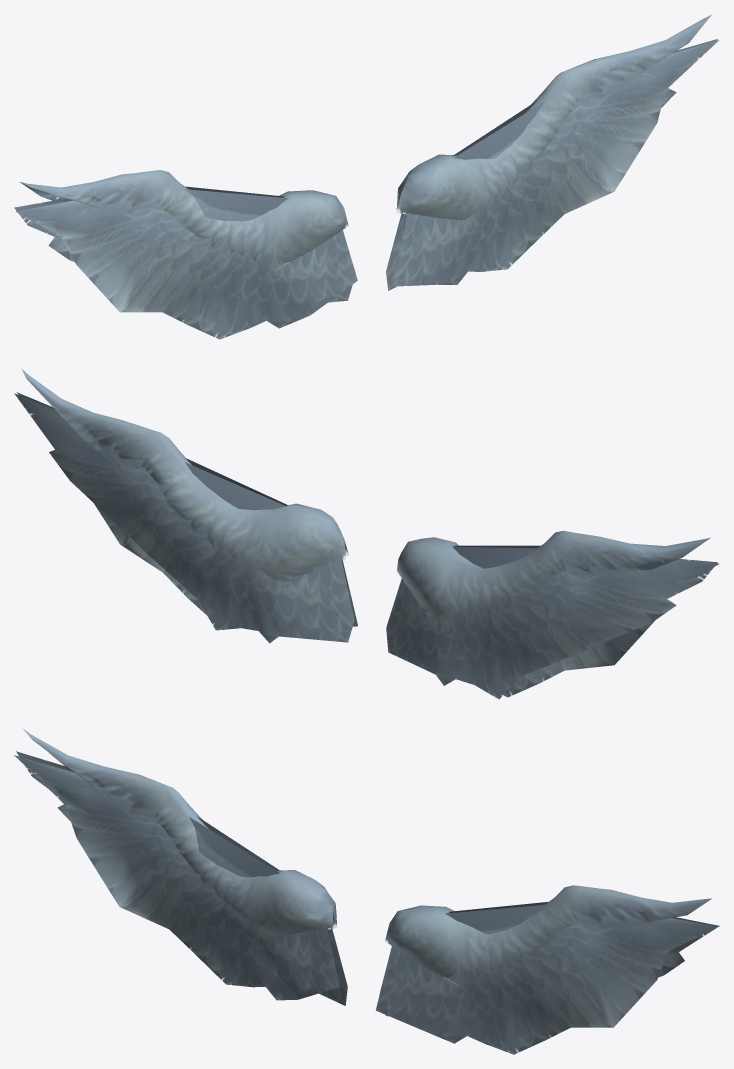
The model's file is PRP_Glider_lod.glb.
3 renders of one model, top to bottom at view 1: azimuth 30°, elevation 25°; view 2: azimuth 150°, elevation 25°; view 3: azimuth 330°, elevation 25°, orthographic.
Parts seen in each view (by area): view 1: Object_4; view 2: Object_4; view 3: Object_4.
Part boxes in pixels (x1,y1,x2,y2): Object_4: (14, 14, 719, 339); Object_4: (14, 369, 719, 699); Object_4: (14, 729, 719, 1054).
Bounding box in the file's own units: 3.1 × 0.876 × 0.2492.
Materials: 1 (1 with a texture image).
